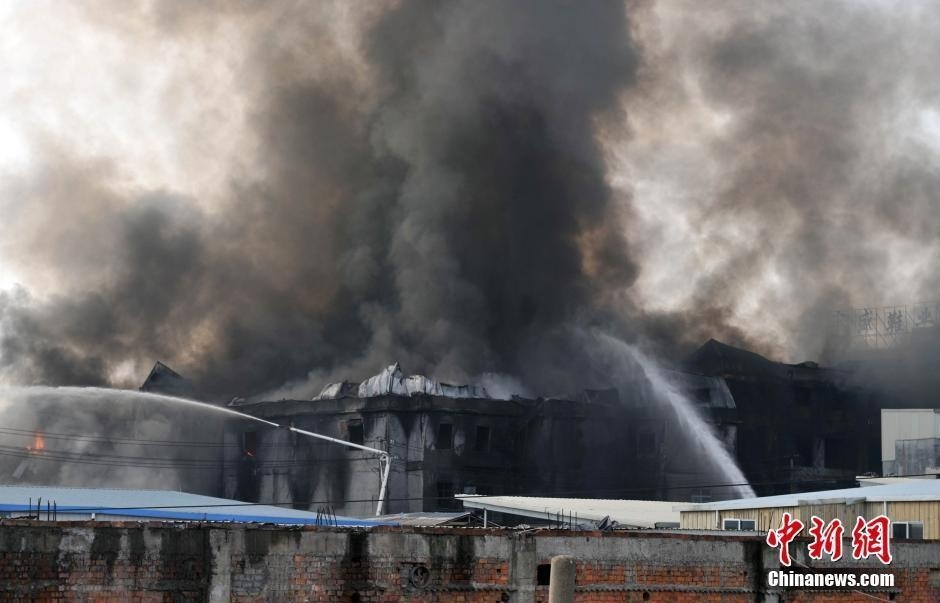fire: (28, 429, 47, 452)
